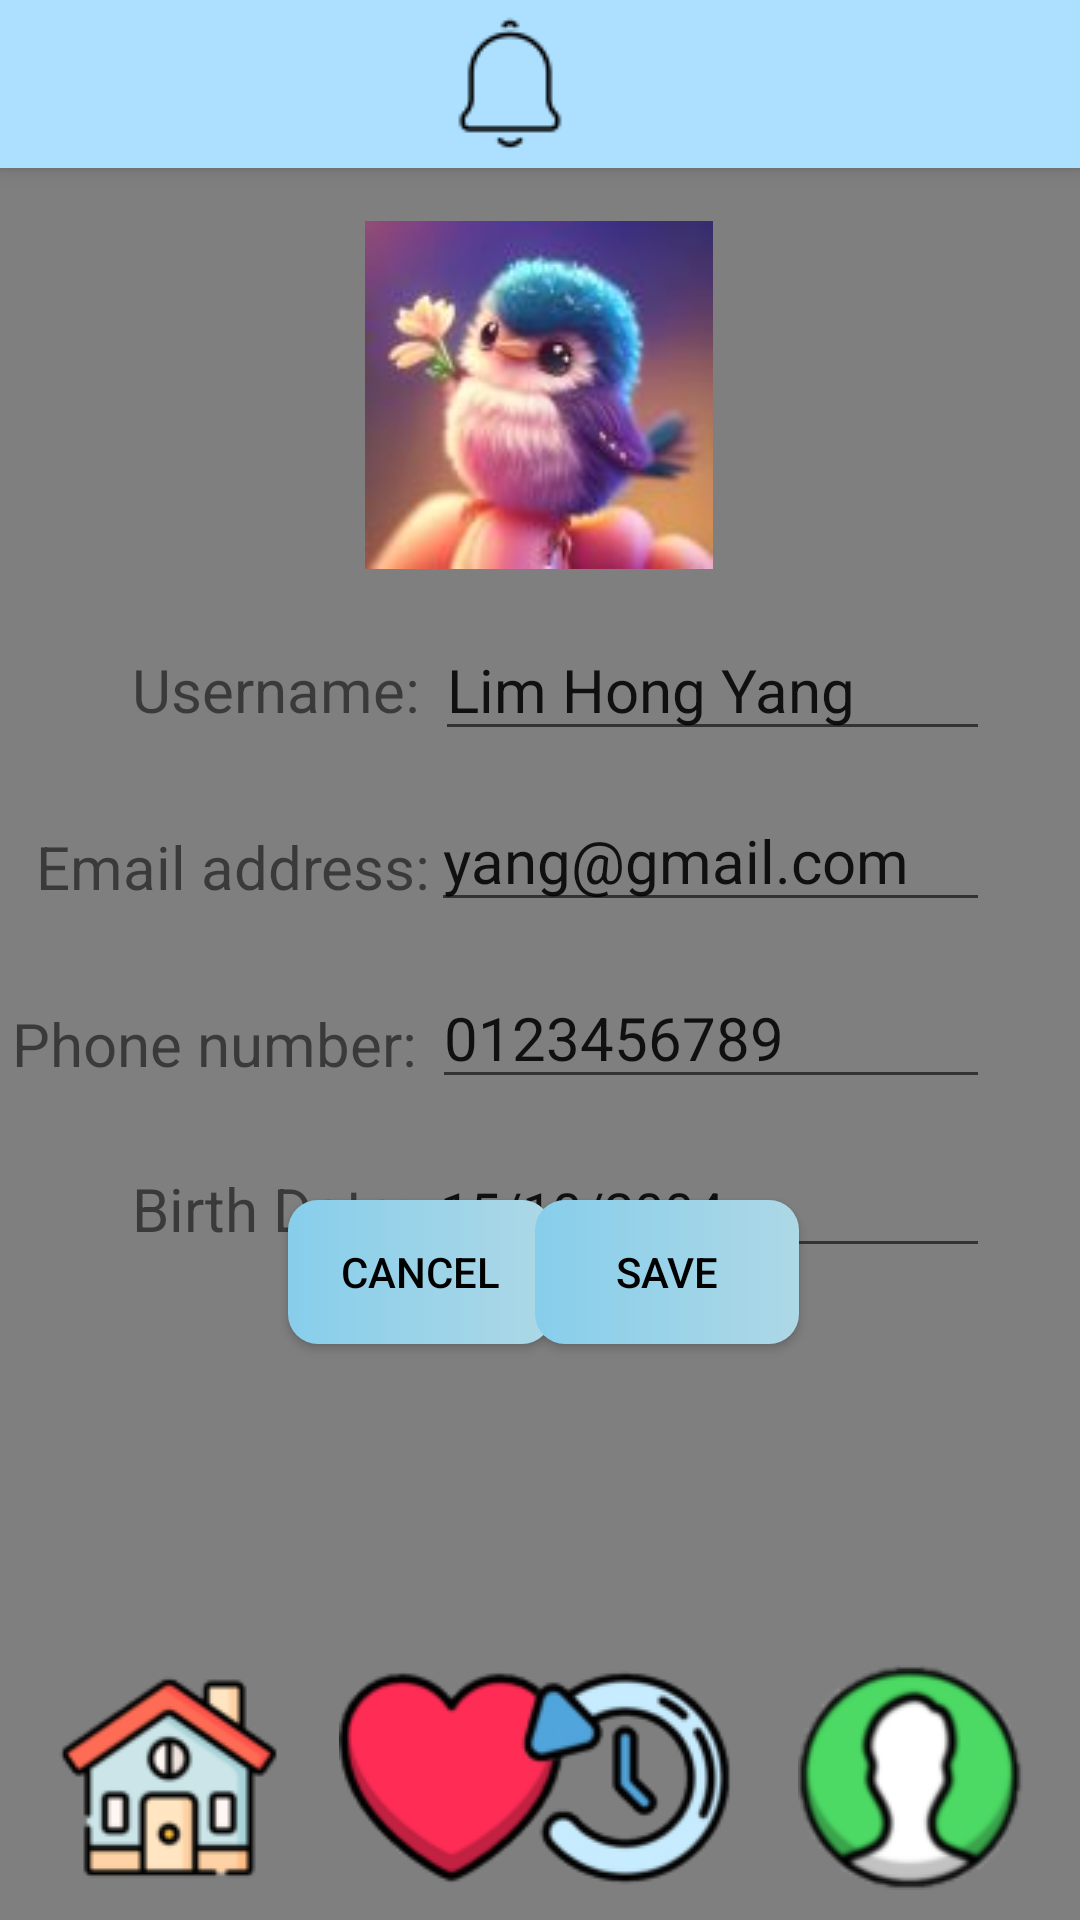

Locate icon controls on the screen. Image size 1080px x 1920px, boxes as box=[x1, y1, x2, y2].
bird: box=[365, 221, 713, 569]
heart: box=[339, 1673, 564, 1882]
history: box=[516, 1673, 730, 1882]
home: box=[62, 1679, 277, 1876]
notification: box=[458, 18, 562, 148]
profile: box=[798, 1667, 1021, 1888]
